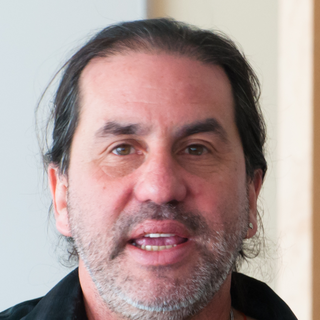eye: (174, 139, 221, 163), (100, 138, 145, 162)
